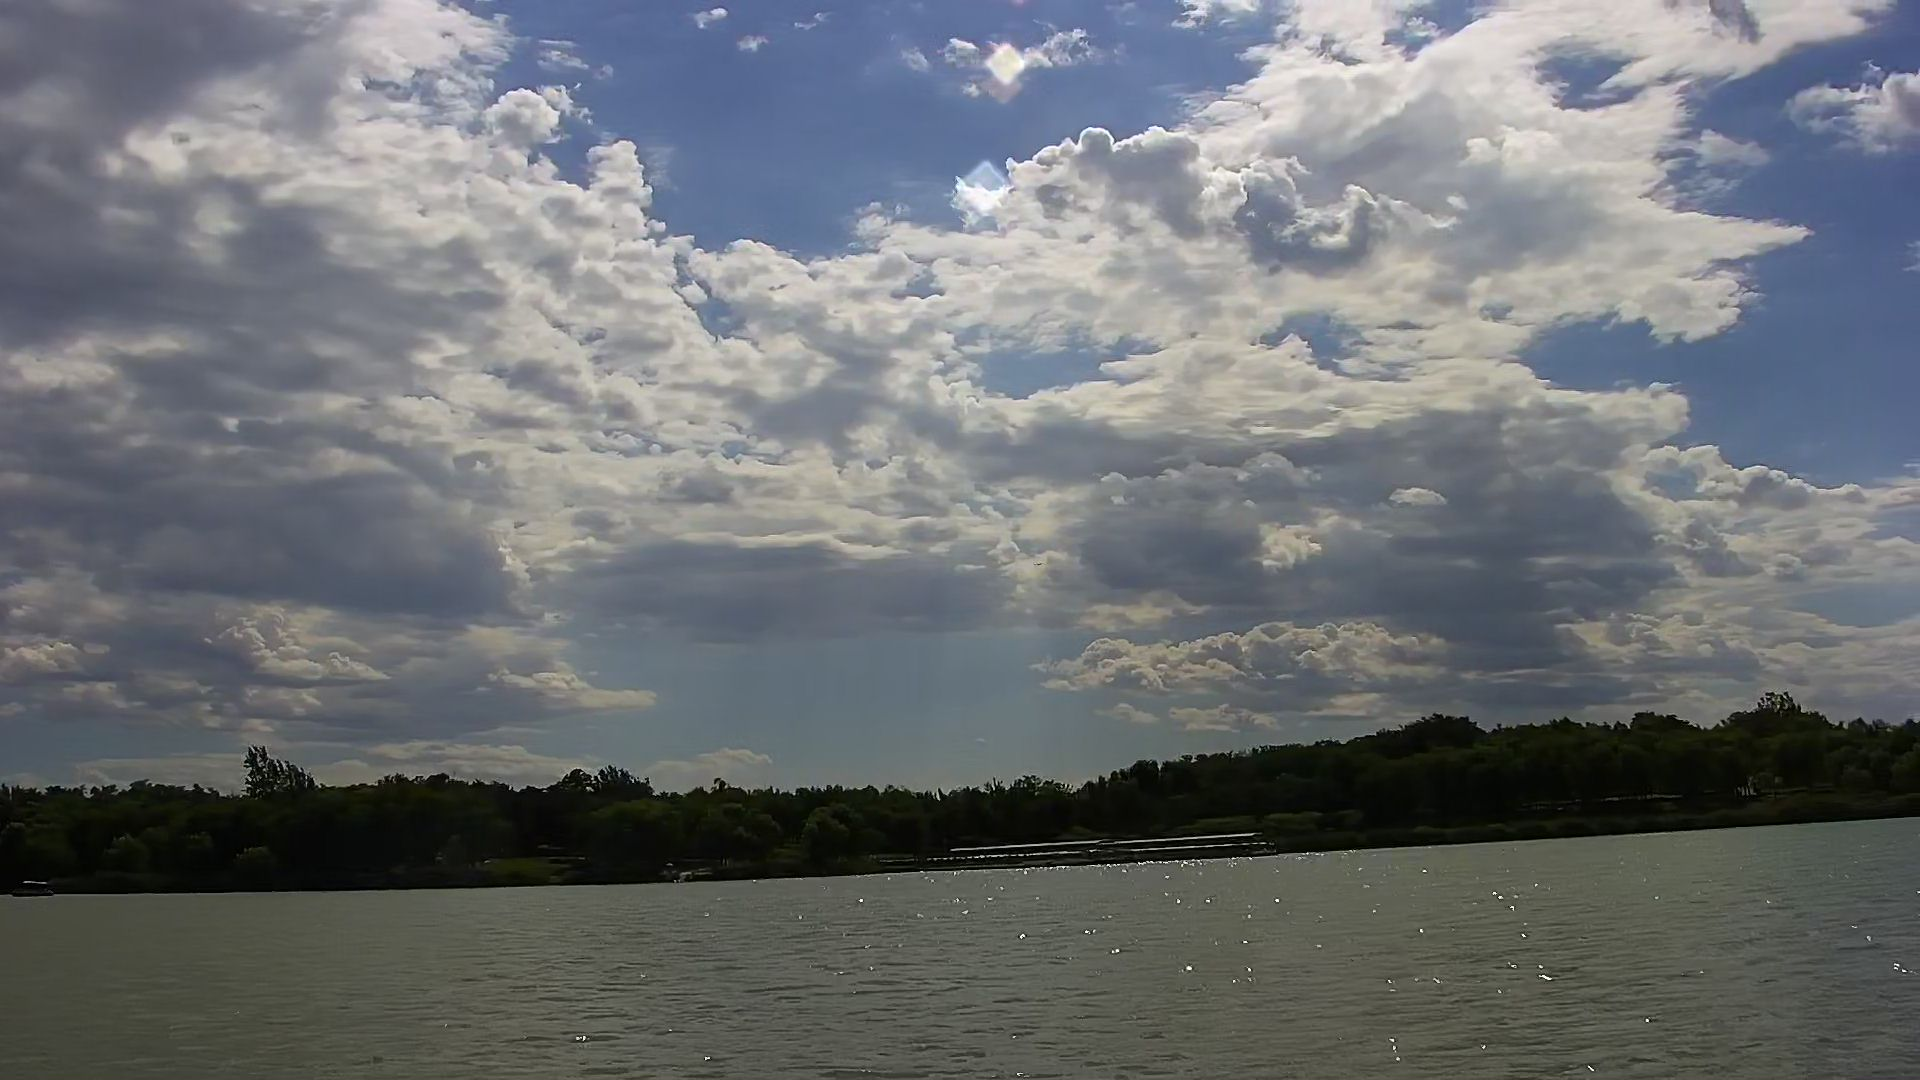harbor: (938, 832, 1262, 868)
